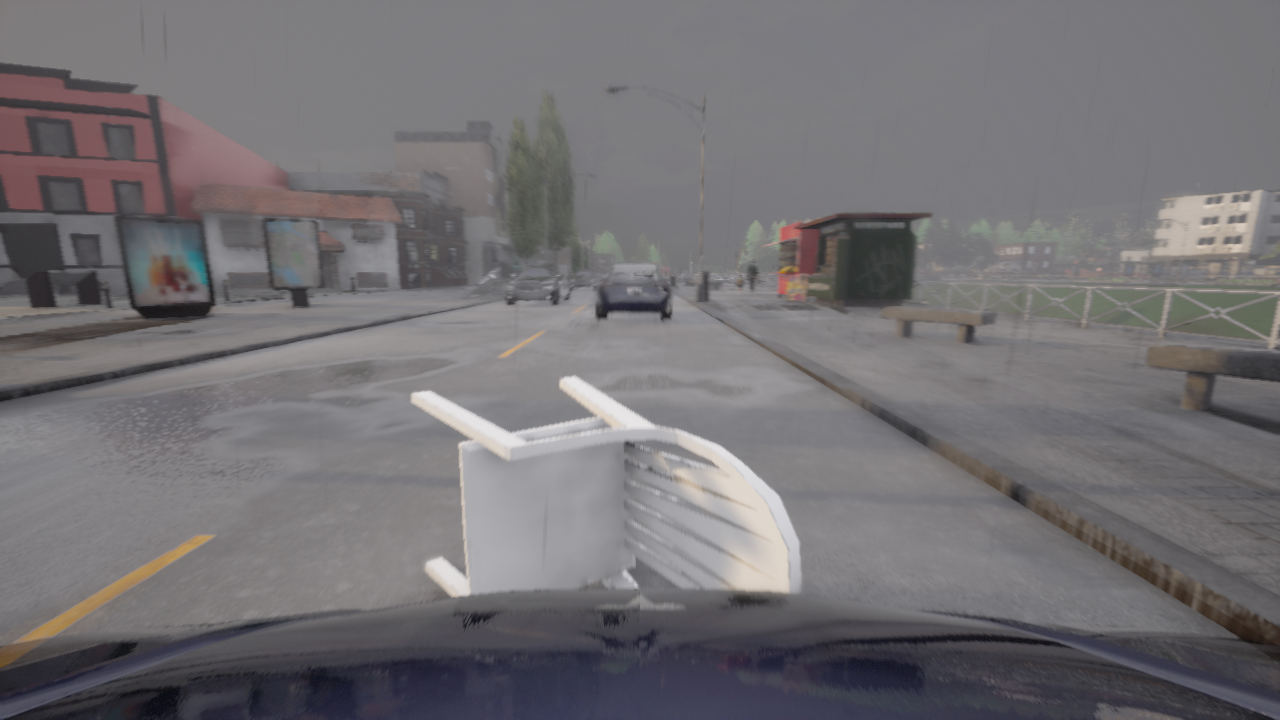cyclist: (0, 588, 1279, 719), (596, 263, 672, 319), (505, 265, 571, 305), (570, 269, 600, 289)
pedestrian: (746, 259, 758, 295), (737, 274, 743, 294)
